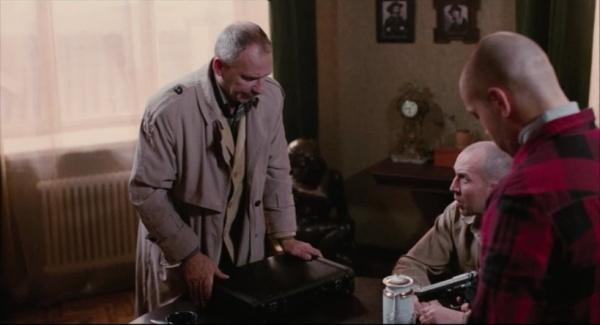Gun: (415, 271, 478, 308)
